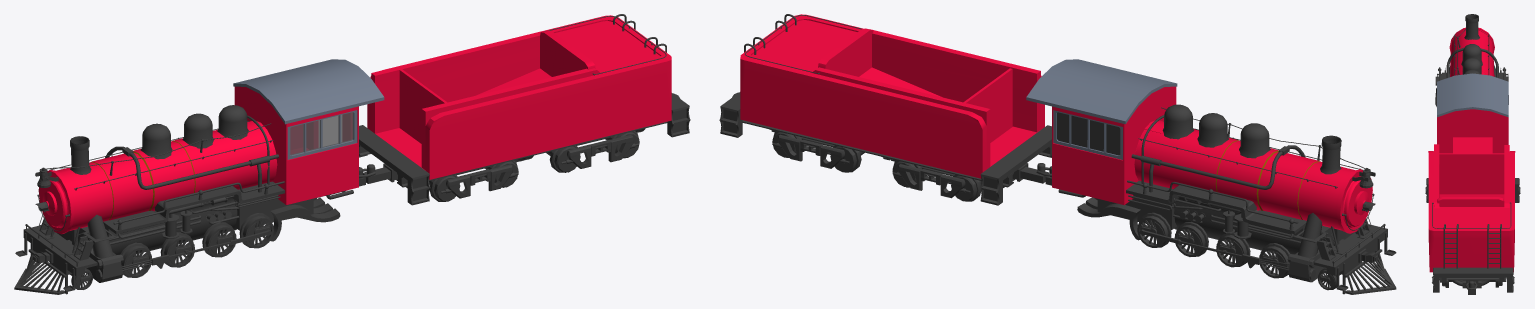
Rendered from train.fbx.
3 views of the same model, side by side, from view 1: azimuth 30°, elevation 25°; view 2: azimuth 150°, elevation 25°; view 3: azimuth 270°, elevation 25° (orthographic). The views are drawn at different scales.
Visible parts, largest first — view 1: polySurface653; view 2: polySurface653; view 3: polySurface653.
Boxes of the visible parts, bbox=[...] form: polySurface653: bbox=[14, 14, 690, 294]; polySurface653: bbox=[719, 14, 1396, 294]; polySurface653: bbox=[1425, 14, 1520, 294].
Size of the model in its own units: 2236 by 449 by 403.
Materials: 5 (2 with a texture image).
